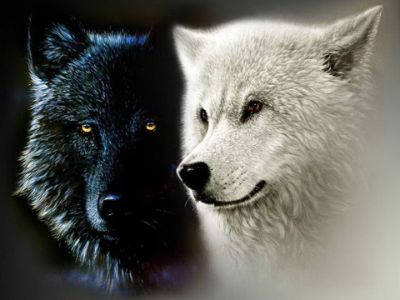wolf: (171, 7, 395, 281), (10, 5, 170, 288)
